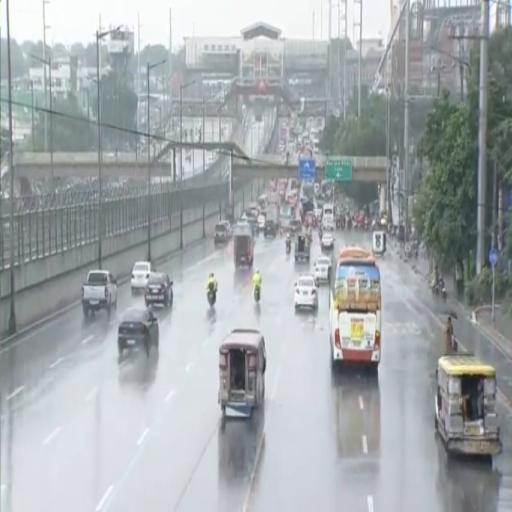bus: (330, 247, 381, 370), (333, 378, 380, 460), (322, 203, 334, 230)
car: (118, 308, 159, 356), (145, 272, 173, 307), (294, 275, 318, 311), (131, 262, 152, 293), (314, 256, 332, 282), (214, 222, 229, 245), (321, 233, 334, 250), (264, 220, 277, 237), (219, 220, 232, 236), (289, 219, 302, 234), (258, 215, 265, 230)
jeepney: (435, 355, 501, 455), (219, 329, 266, 419)
motorcycle: (438, 280, 446, 301), (207, 290, 216, 307), (254, 286, 260, 302), (286, 240, 291, 254)
truck: (82, 270, 116, 317), (234, 226, 254, 267), (266, 204, 279, 228)
